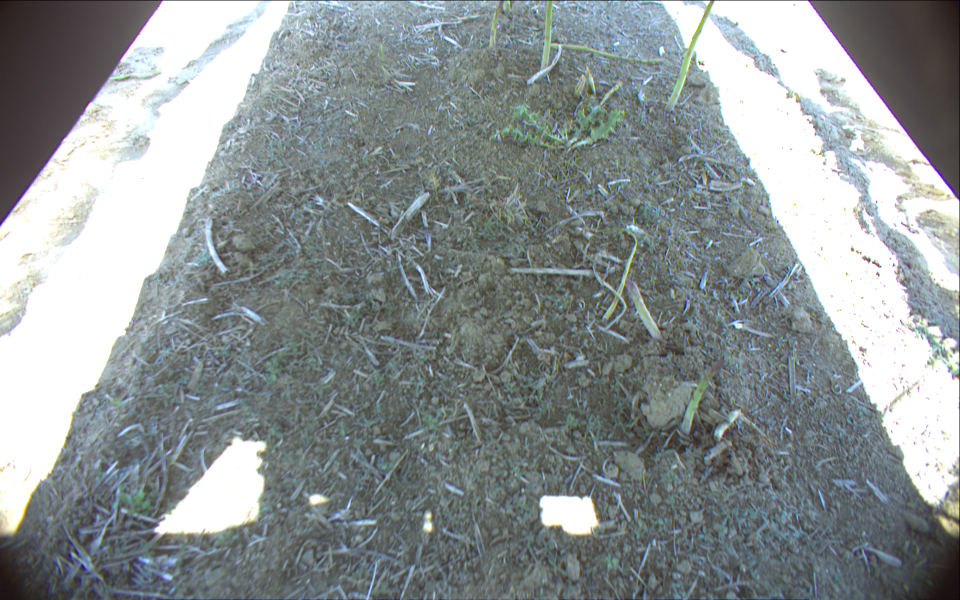aspa: (665, 1, 716, 114), (681, 353, 726, 436), (603, 226, 637, 322), (549, 42, 667, 63), (626, 279, 663, 341), (538, 1, 556, 72), (596, 82, 624, 113), (489, 1, 503, 50)
